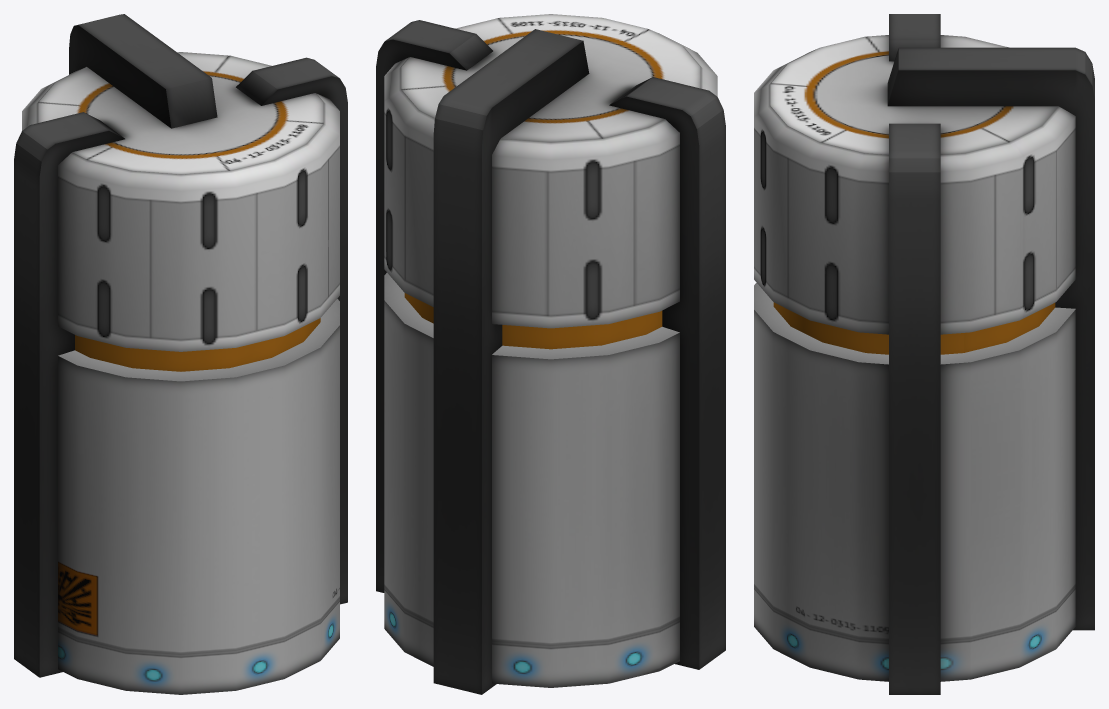
File: Barrel.fbx
The picture shows the model from 3 angles, left to right: view 1: azimuth 30°, elevation 25°; view 2: azimuth 150°, elevation 25°; view 3: azimuth 270°, elevation 25°; orthographic projection. The views are drawn at different scales.
Visible parts, largest first — view 1: Barrel; view 2: Barrel; view 3: Barrel.
Part boxes in pixels (bbox=[...]): Barrel: bbox=[14, 14, 347, 694]; Barrel: bbox=[376, 14, 725, 694]; Barrel: bbox=[754, 14, 1094, 694].
Bounding box in the file's own units: 2.21 × 3.78 × 2.09.
1 material, 1 textured.
